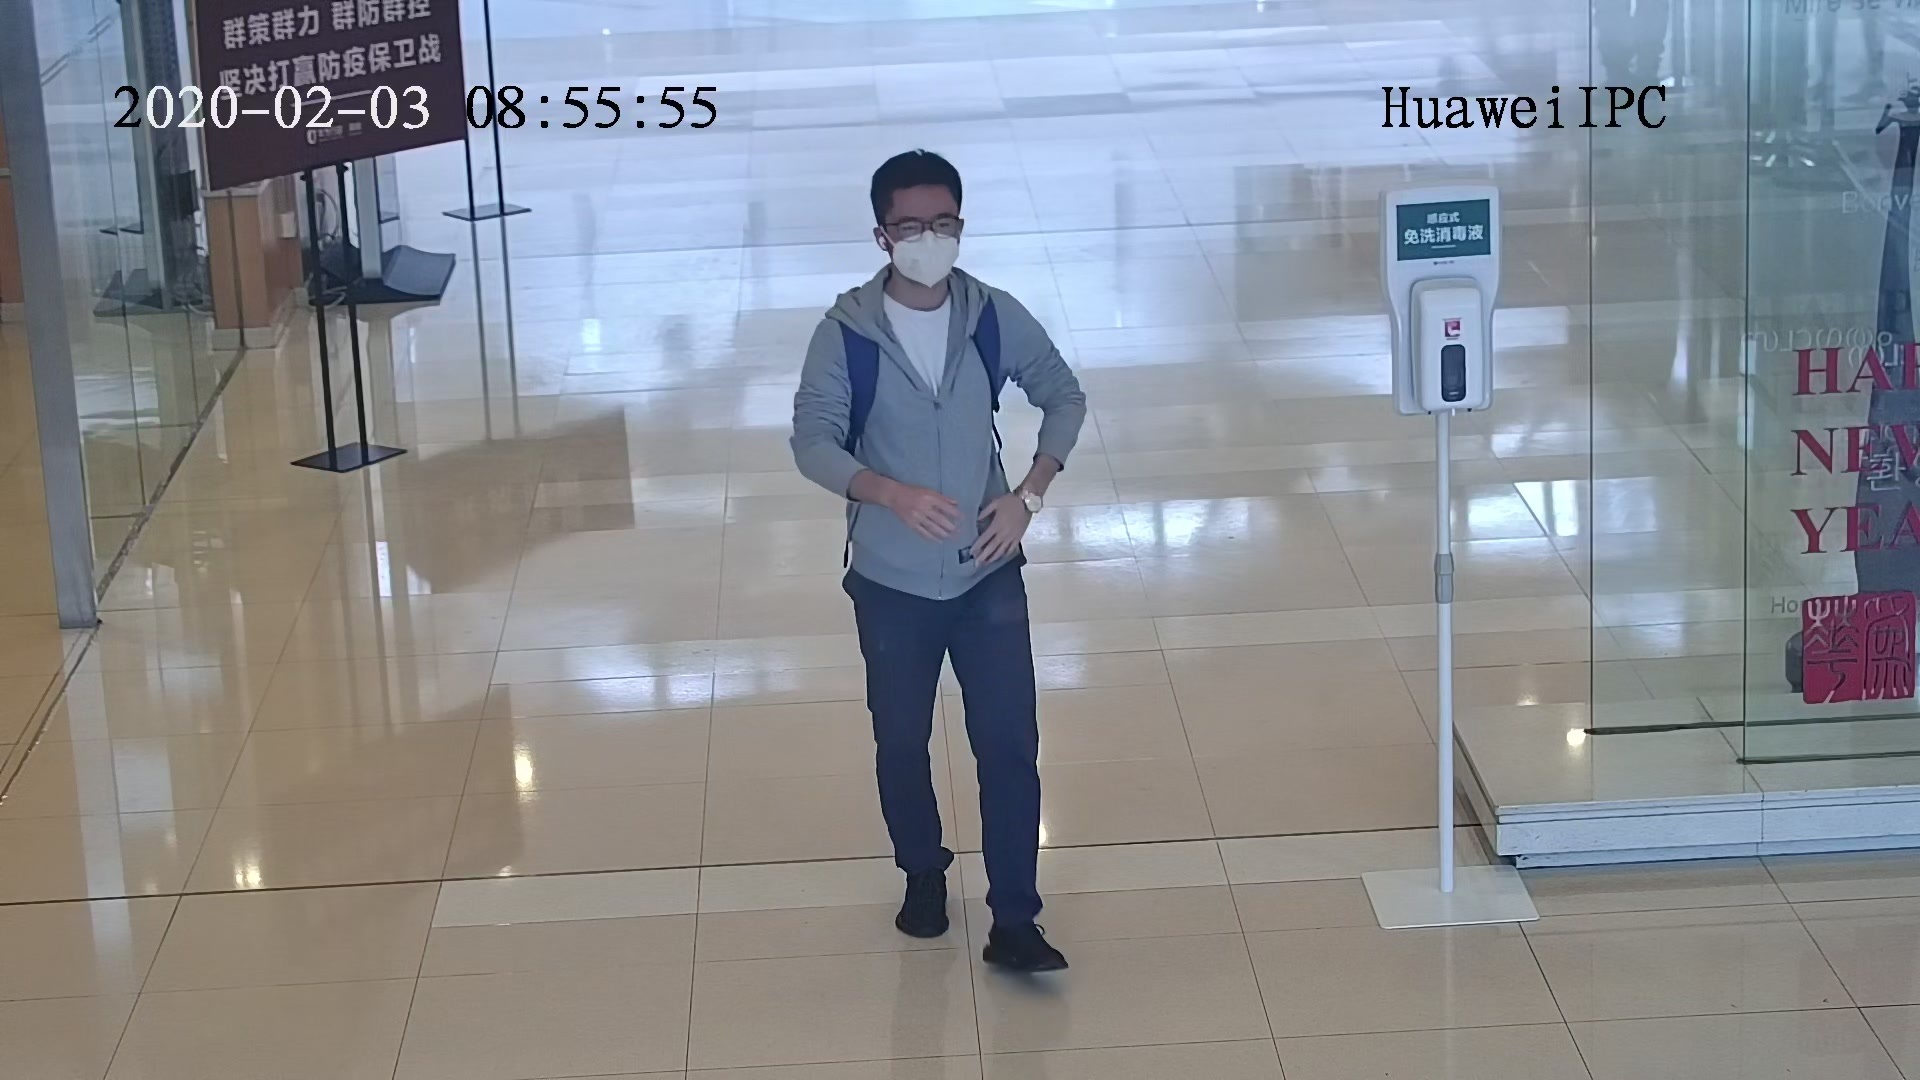face: (888, 181, 961, 286)
mask: (890, 229, 961, 288)
person: (807, 147, 1046, 372)
